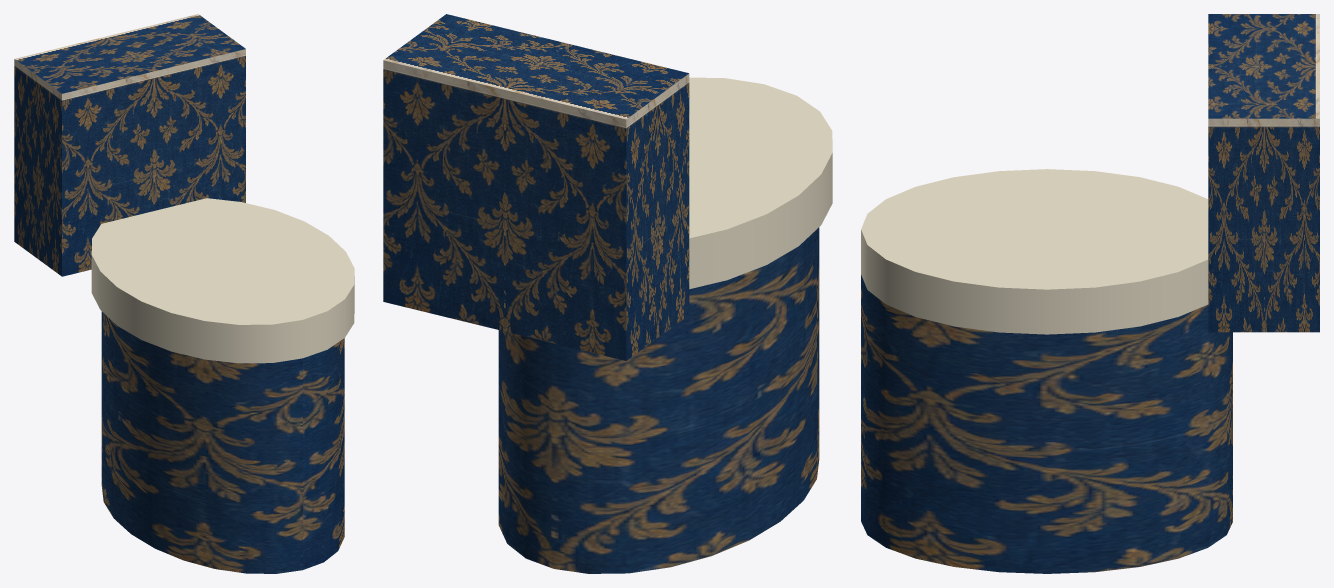
The model's file is toilet.gltf.
3 renders of one model, left to right at view 1: azimuth 30°, elevation 25°; view 2: azimuth 150°, elevation 25°; view 3: azimuth 270°, elevation 25°, orthographic. The views are drawn at different scales.
Parts seen in each view (by area): view 1: kit:0:furniture:marble:, kit:0:furniture:ivory:; view 2: kit:0:furniture:marble:, kit:0:furniture:ivory:; view 3: kit:0:furniture:marble:, kit:0:furniture:ivory:.
Boxes of the visible parts, box(x1,y1,x2,y2) form: kit:0:furniture:marble:: box(14, 14, 344, 573); kit:0:furniture:ivory:: box(91, 198, 354, 363); kit:0:furniture:marble:: box(383, 14, 819, 573); kit:0:furniture:ivory:: box(689, 77, 832, 289); kit:0:furniture:marble:: box(861, 14, 1319, 573); kit:0:furniture:ivory:: box(861, 169, 1208, 334).
Bounding box in the file's own units: 0.46 × 0.81 × 0.74.
Materials: 3 (1 with a texture image).
